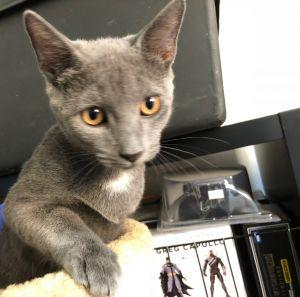rblue: (22, 1, 193, 185)
